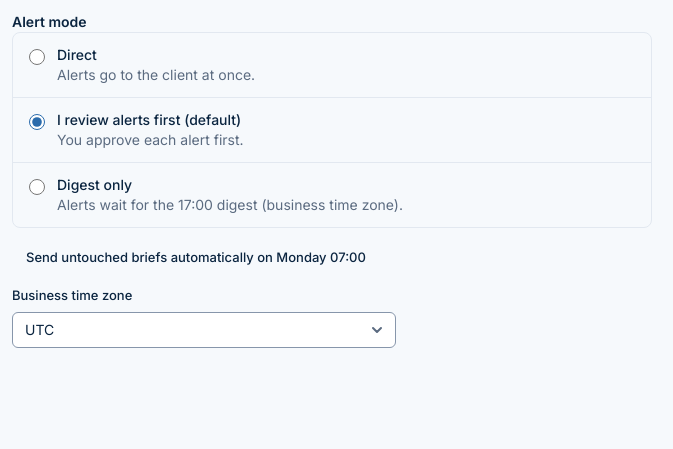
Test: DeliveryForm alert modes › shows Save only once the form is dirty
Expected: the button "Save" is not shown
Click the radio button labelled "Digest only" at (37, 187), box [29,179,45,195]
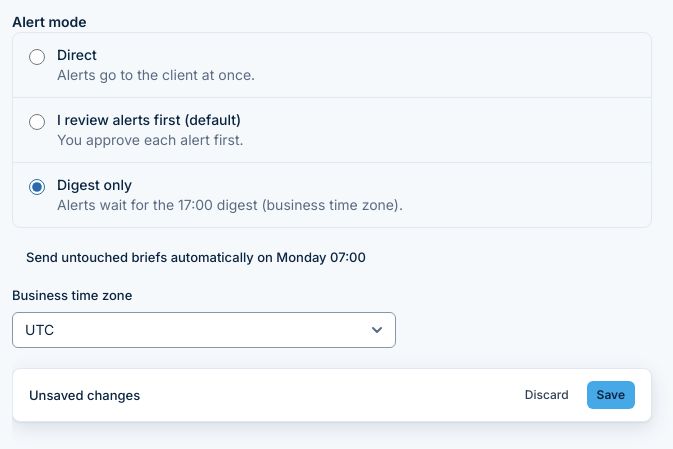
Expected: the button "Save" is shown, [587,381,635,409]
